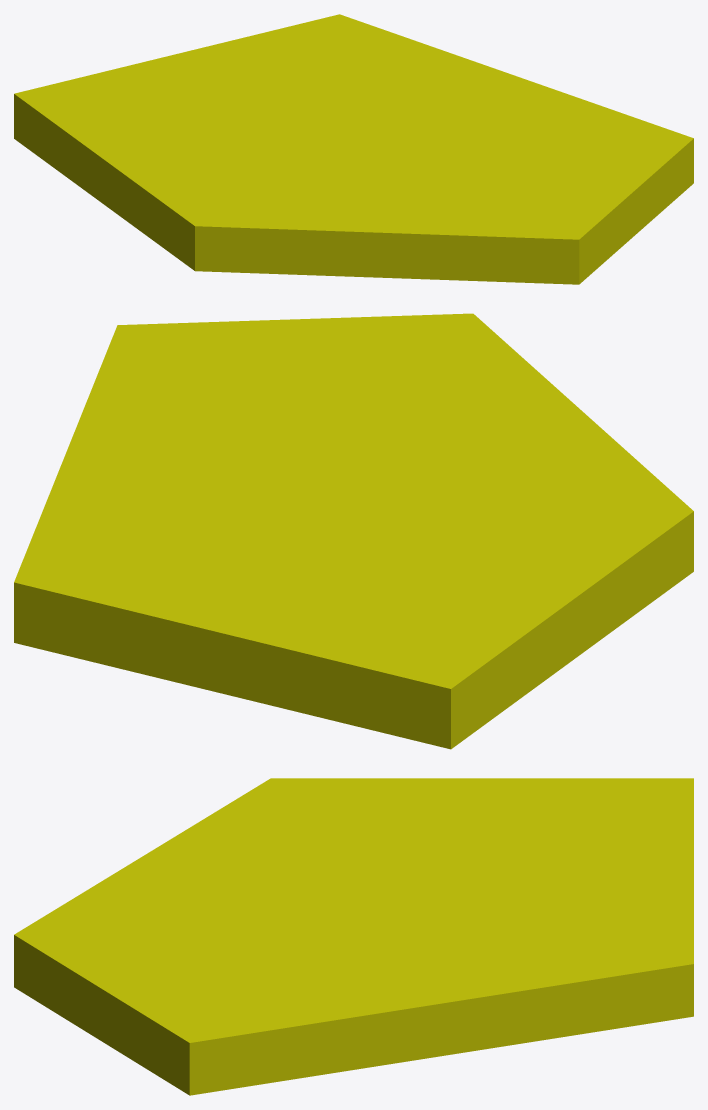
File: x_proval_00_186_1_rmstrd.fbx
3 renders of one model, top to bottom at view 1: azimuth 30°, elevation 25°; view 2: azimuth 150°, elevation 25°; view 3: azimuth 270°, elevation 25°, orthographic. The views are drawn at different scales.
Parts seen in each view (by area): view 1: x_proval_00_186_1_rmstrd1; view 2: x_proval_00_186_1_rmstrd1; view 3: x_proval_00_186_1_rmstrd1.
Part boxes in pixels (x1,y1,x2,y2): x_proval_00_186_1_rmstrd1: [14, 14, 693, 284]; x_proval_00_186_1_rmstrd1: [14, 313, 693, 749]; x_proval_00_186_1_rmstrd1: [14, 778, 693, 1095].
Bounding box in the file's own units: 2.16 × 0.2 × 2.34.
